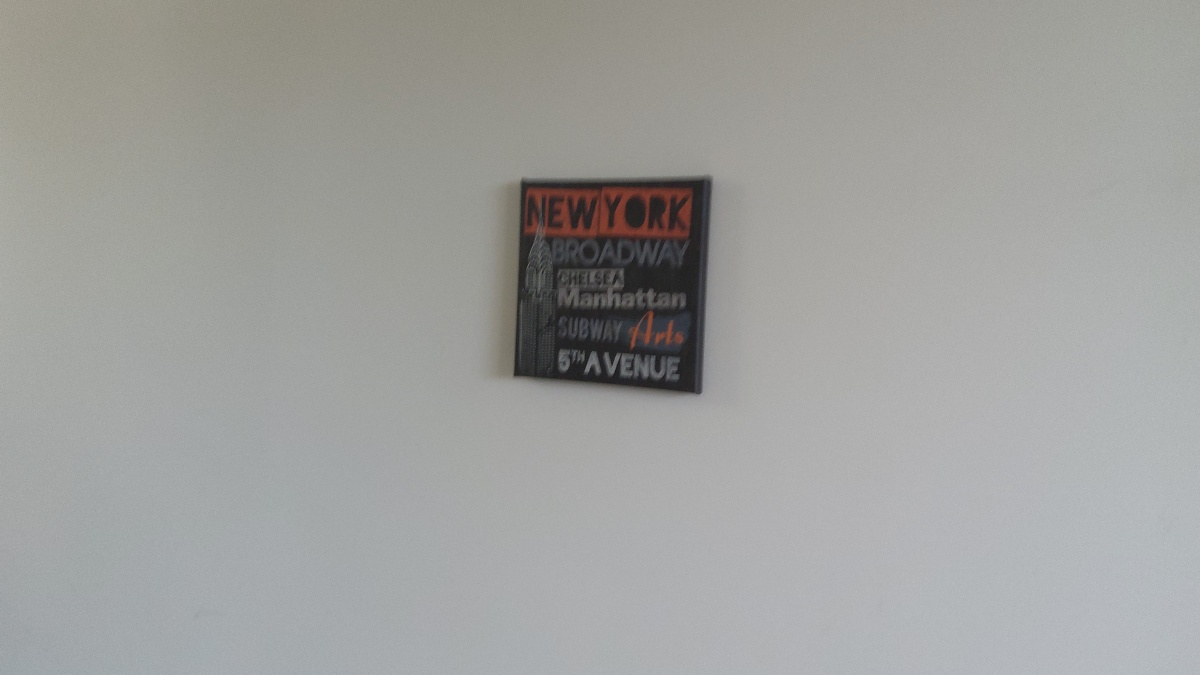poster: (503, 168, 716, 403)
